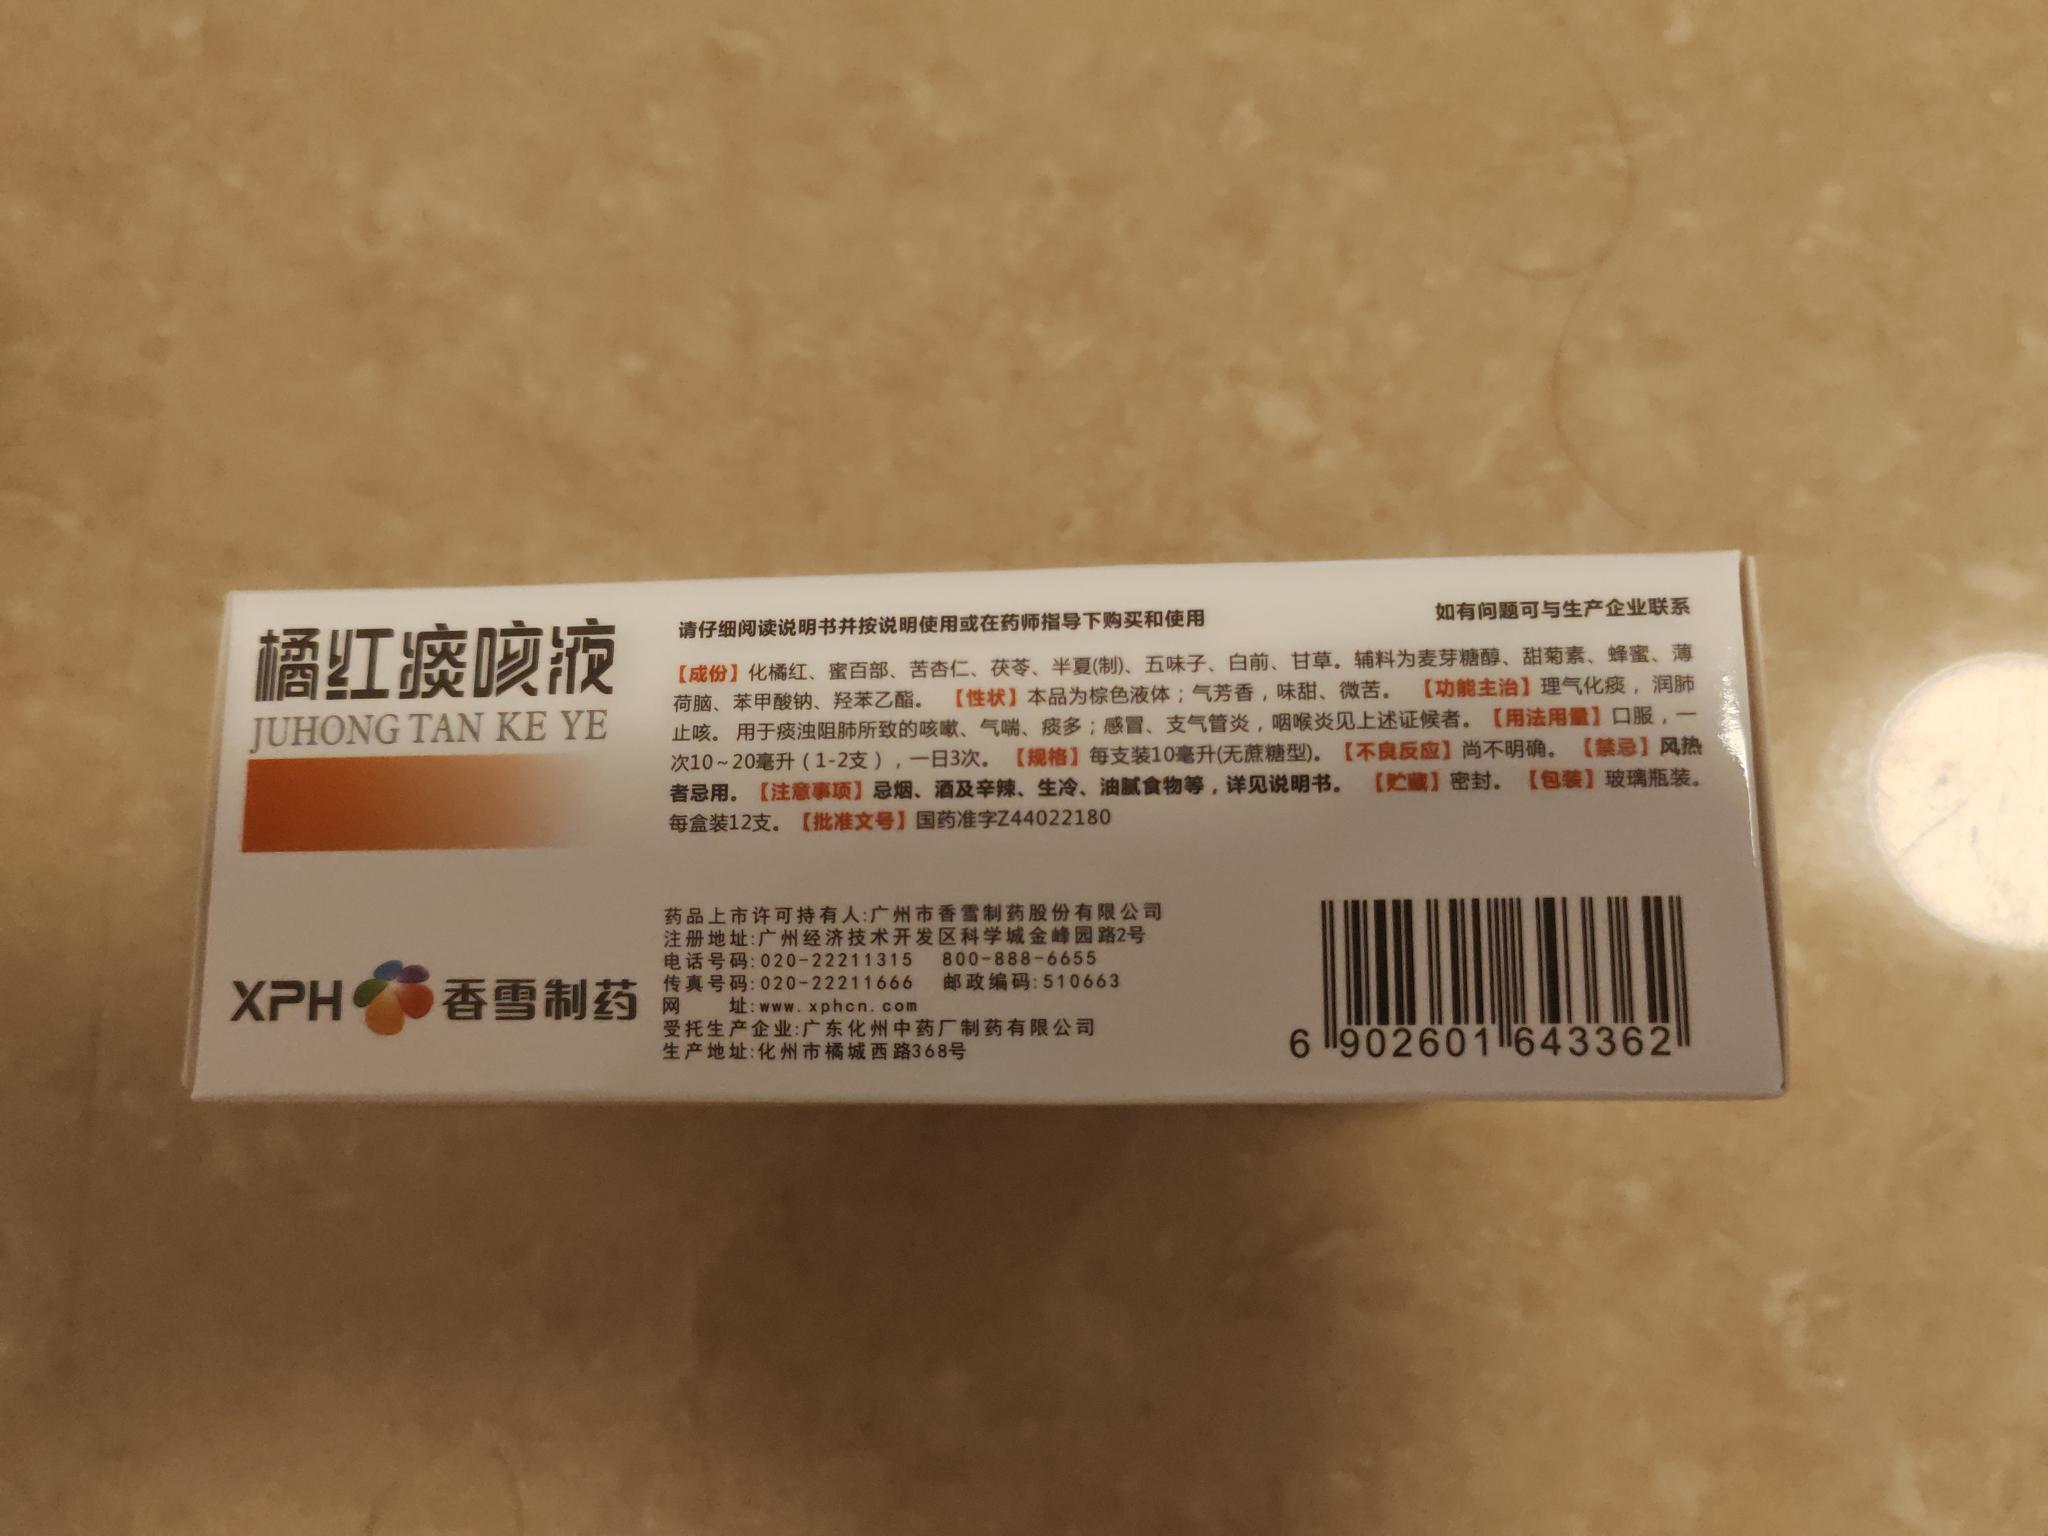Medicine1: (163, 528, 1808, 1149)
